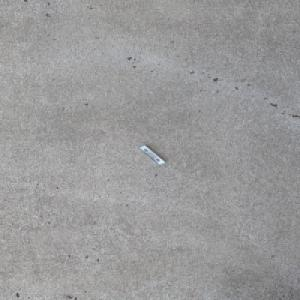ClampPart: (137, 144, 166, 165)
